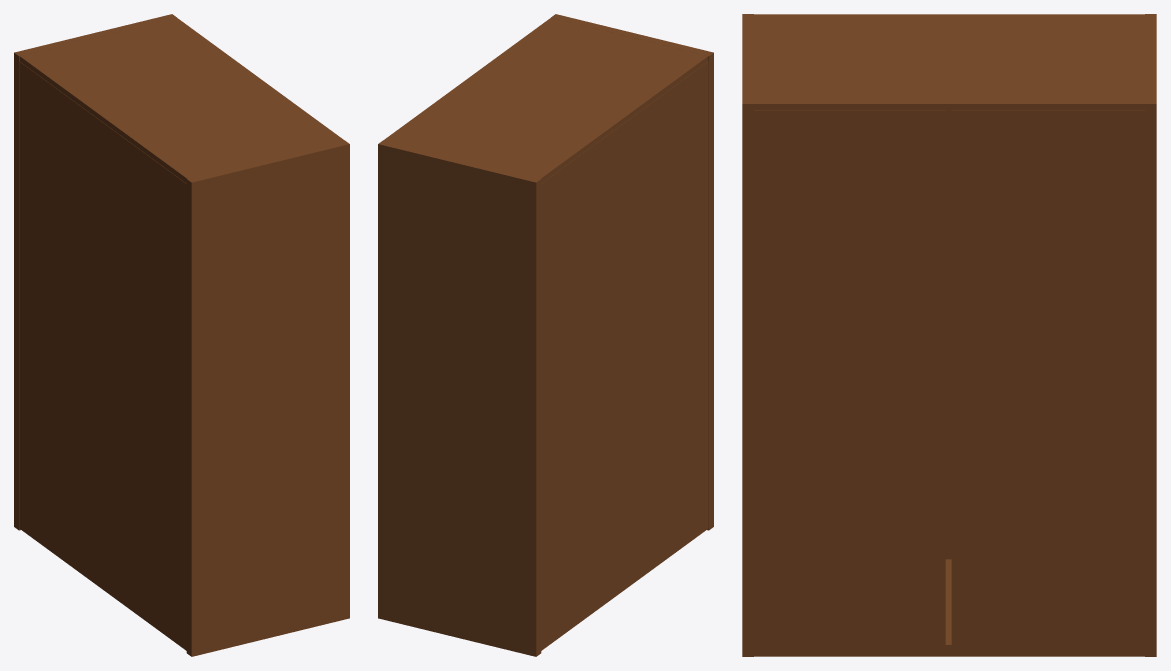
File: шкаф2.fbx
The picture shows the model from 3 angles, left to right: view 1: azimuth 30°, elevation 25°; view 2: azimuth 150°, elevation 25°; view 3: azimuth 270°, elevation 25°; orthographic projection. The views are drawn at different scales.
Visible parts, largest first — view 1: Cube, Cube.003, Cube.004, Cube.001; view 2: Cube.001, Cube.003, Cube.004, Cube; view 3: Cube.006, Cube.005, Cube.004, Cube.001, Cube, Cube.003, Cube.002.
Boxes of the visible parts, x1,y1,x2,y2 form: Cube: (186, 140, 349, 656); Cube.003: (19, 61, 186, 650); Cube.004: (19, 18, 344, 183); Cube.001: (14, 14, 176, 530); Cube.001: (378, 140, 541, 656); Cube.003: (541, 61, 708, 650); Cube.004: (383, 18, 708, 183); Cube: (551, 14, 713, 530); Cube.006: (951, 110, 1144, 654); Cube.005: (754, 110, 945, 654); Cube.004: (754, 14, 1144, 115); Cube.001: (1145, 14, 1156, 656); Cube: (742, 14, 753, 656); Cube.003: (945, 116, 951, 559); Cube.002: (754, 559, 1144, 656).
Size of the model in its own units: 132 by 379 by 258.
